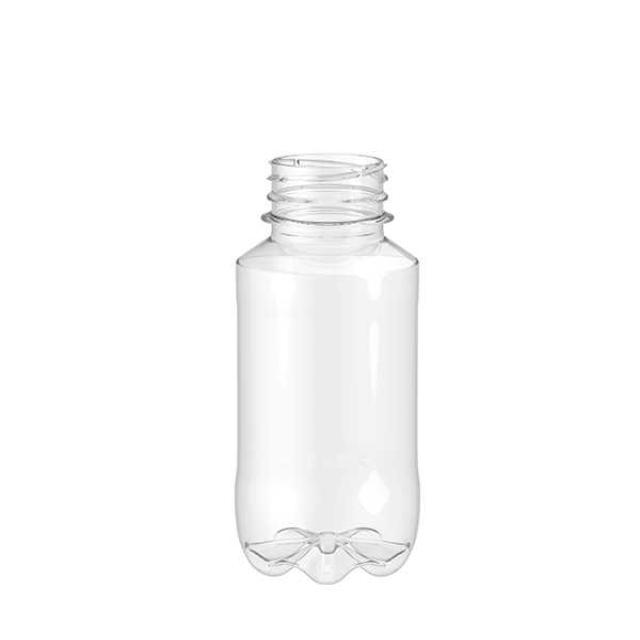bottom: (244, 528, 411, 584)
neck: (238, 154, 418, 270)
